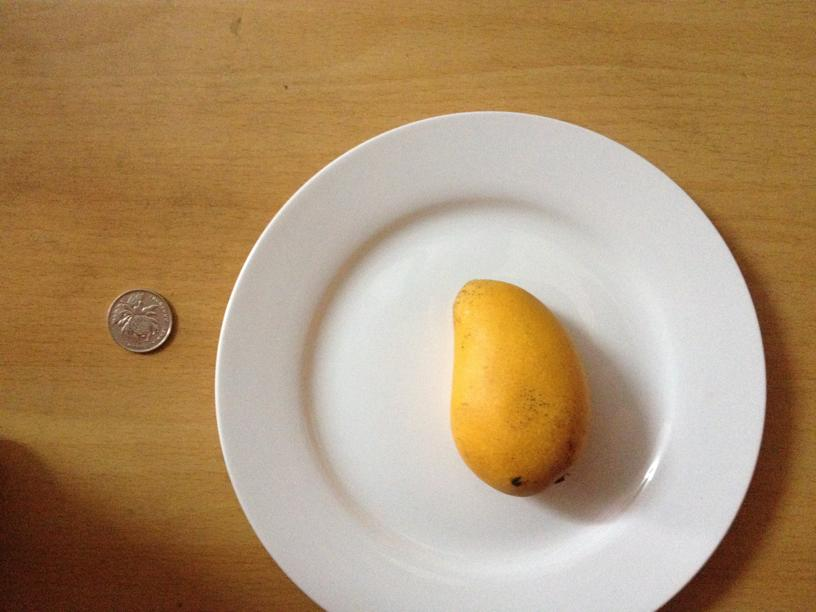coin: (106, 286, 173, 354)
mango: (446, 274, 587, 492)
